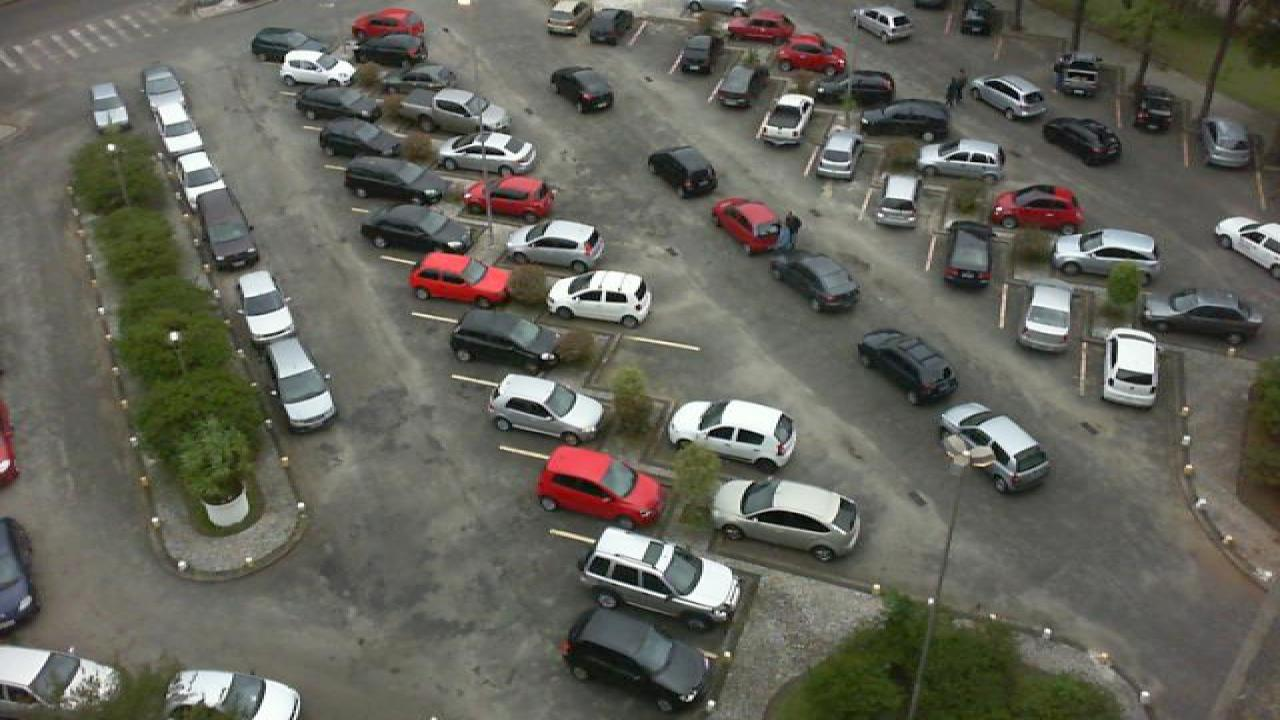Car: (556, 606, 718, 714), (578, 526, 744, 628), (710, 477, 866, 563), (532, 444, 666, 530), (938, 402, 1058, 494), (666, 397, 800, 477), (482, 372, 608, 449), (0, 643, 124, 720), (854, 327, 958, 408), (258, 339, 340, 433), (1140, 284, 1264, 346), (448, 310, 564, 371), (170, 668, 304, 720), (544, 267, 654, 328), (766, 250, 866, 316), (406, 251, 516, 310), (1050, 227, 1168, 281), (502, 218, 608, 277), (194, 190, 264, 272), (710, 195, 800, 258), (358, 202, 462, 256), (340, 156, 444, 208), (988, 184, 1088, 238), (234, 268, 302, 347), (1100, 327, 1164, 410), (434, 129, 540, 178), (462, 172, 558, 225), (408, 87, 510, 135), (1042, 117, 1128, 169), (938, 219, 1000, 289), (1016, 282, 1074, 356), (646, 143, 720, 201), (854, 98, 956, 140), (318, 117, 410, 163), (970, 73, 1052, 123), (1212, 215, 1280, 272), (754, 92, 816, 151), (292, 82, 382, 122), (920, 140, 1006, 181), (548, 65, 616, 115), (872, 171, 922, 232), (376, 61, 456, 99), (772, 35, 848, 75), (810, 126, 860, 184), (278, 52, 356, 89), (350, 32, 428, 68), (1202, 117, 1254, 170), (88, 80, 136, 135), (712, 63, 766, 111), (248, 27, 320, 62), (1130, 85, 1180, 135), (350, 7, 428, 39), (176, 132, 226, 181), (724, 8, 796, 42), (1052, 52, 1104, 99), (850, 6, 914, 44), (190, 165, 244, 210), (156, 100, 208, 146), (138, 65, 190, 109), (672, 32, 720, 76), (846, 68, 896, 109), (588, 8, 636, 46), (546, 0, 592, 37)
